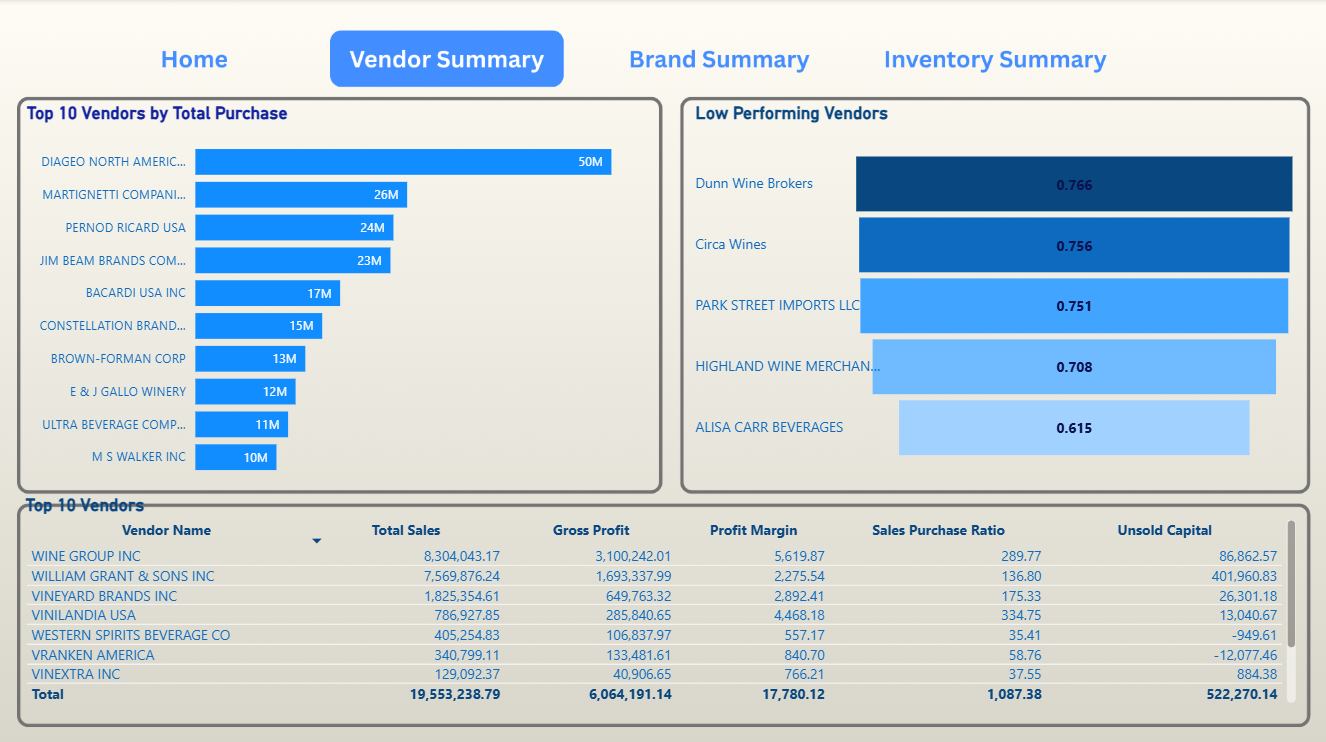

The page's visual inventory and layout, read from the dashboard file:
{"tool":"powerbi","page":{"name":"Vendor Summary","canvas":[1280,720],"ordinal":1},"visuals":[{"type":"clusteredBarChart","title":"Top 10 Vendors by Total Purchase","fields":{"Category":["vendor_sales_summary.VendorName"],"Y":["Sum(vendor_sales_summary.TotalPurchaseDollars)"]},"box":[21.4,100,618.6,372.9],"z":0},{"type":"funnel","title":"Low Performing Vendors","fields":{"Y":["Avg(LowTurnoverVendor.AvgStockTurnOver)"],"Category":["LowTurnoverVendor.VendorName"]},"box":[667.1,100,591.4,372.9],"z":1000},{"type":"tableEx","title":"Top 10 Vendors","fields":{"Values":["vendor_sales_summary.VendorName","Sum(vendor_sales_summary.TotalSalesDollars)","Sum(vendor_sales_summary.GrossProfit)","Sum(vendor_sales_summary.ProfitMargin)","Sum(vendor_sales_summary.SalesPurchaseRatio)","Sum(vendor_sales_summary.UnsoldCapital)"]},"box":[20.6,473.4,1236.4,211.3],"z":2000},{"type":"actionButton","box":[101.4,35.7,177.1,44.3],"z":3000},{"type":"actionButton","box":[317.1,35.7,228.6,44.3],"z":4000},{"type":"actionButton","box":[605.7,40,181.4,40],"z":5000},{"type":"actionButton","box":[848.6,35.7,224.3,40],"z":6000}]}

Visuals, with their boxes in screenshot pixels (x1, y1, x2, y2), scaled from the page's 1280x720 canvas onto the 1326x742 screenshot:
"Top 10 Vendors by Total Purchase" clusteredBarChart: (x1=22, y1=103, x2=663, y2=487)
"Low Performing Vendors" funnel: (x1=691, y1=103, x2=1304, y2=487)
"Top 10 Vendors" tableEx: (x1=21, y1=488, x2=1302, y2=706)
actionButton: (x1=105, y1=37, x2=289, y2=82)
actionButton: (x1=328, y1=37, x2=565, y2=82)
actionButton: (x1=627, y1=41, x2=815, y2=82)
actionButton: (x1=879, y1=37, x2=1111, y2=78)
